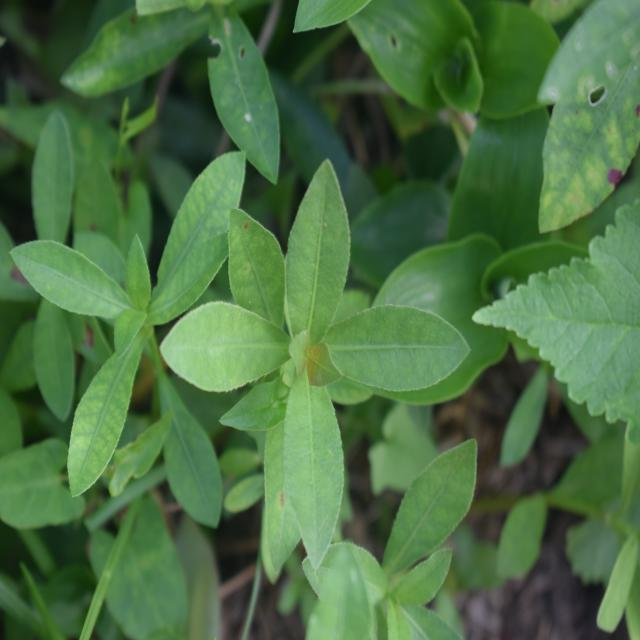Alligatorweed: (183, 158, 430, 544), (31, 141, 242, 516)
